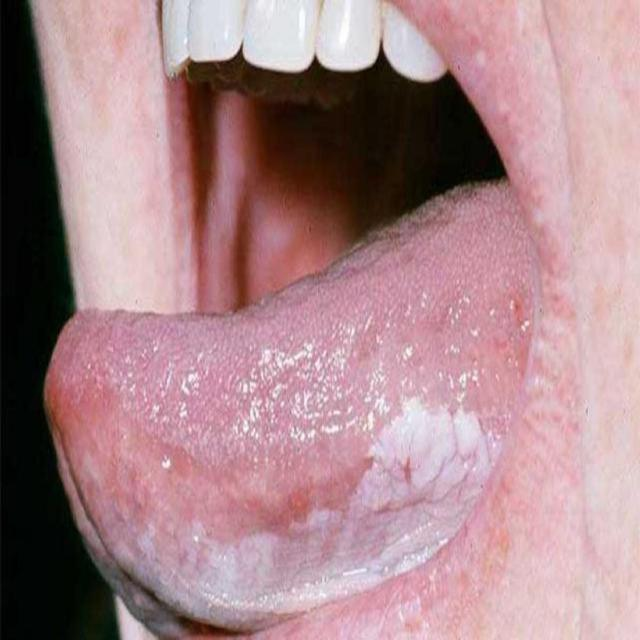Cancer: (302, 355, 502, 534)
